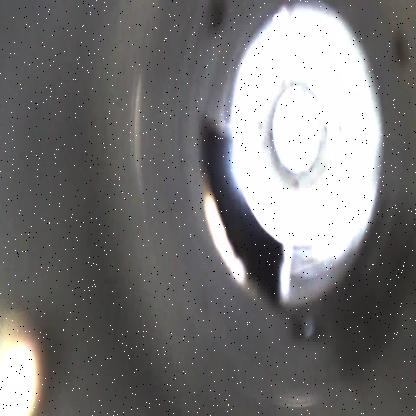Crack2: (199, 112, 287, 308)
